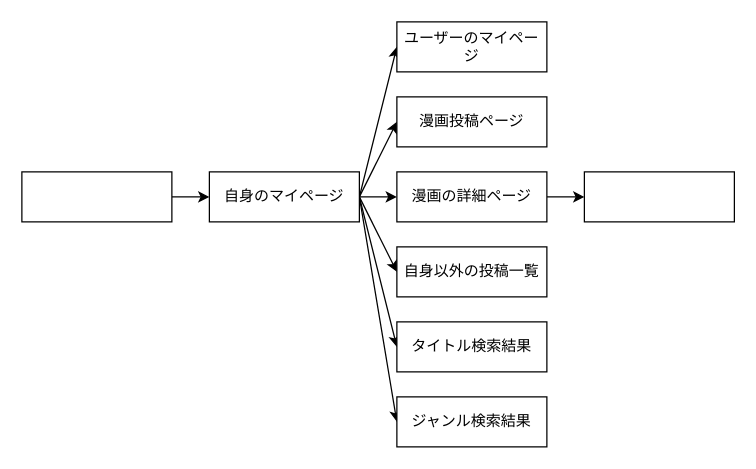
The diagram is 756 pixels wide and 469 high, and some of its shapes have lost their labels. Here are the shapes that lost their labels. From the top down, the centre of each, then its label:
(x=96, y=196): ログインページ
(x=658, y=196): 編集ページ
